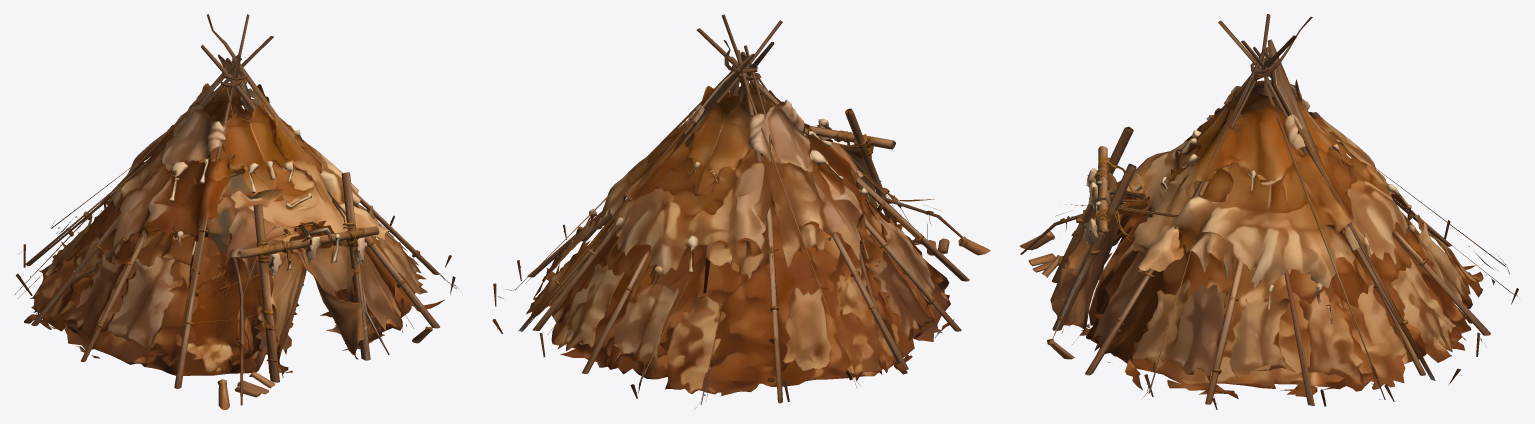
File: zelt2.glb
The picture shows the model from 3 angles, left to right: view 1: azimuth 30°, elevation 25°; view 2: azimuth 150°, elevation 25°; view 3: azimuth 270°, elevation 25°; orthographic projection. The views are drawn at different scales.
Size of the model in its own units: 0.896 by 0.6157 by 0.9521.
1 material, 1 textured.
